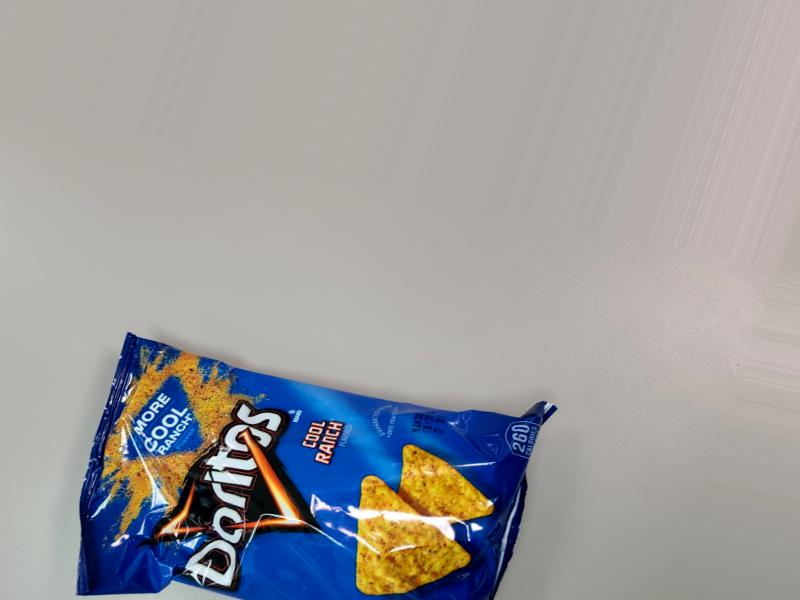doritos: (66, 351, 507, 586)
